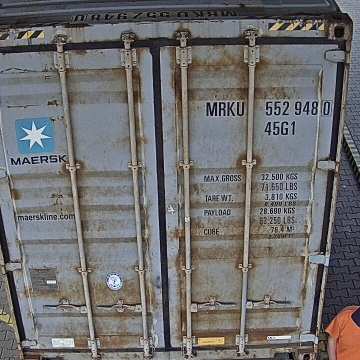serial_id: (206, 100, 332, 115)
